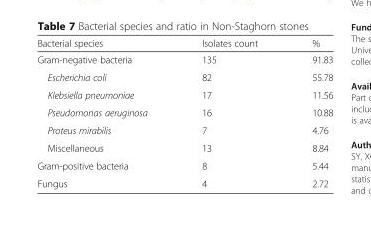table: (36, 36, 332, 188)
table column: (36, 36, 173, 188), (173, 36, 284, 188), (284, 36, 332, 188)
table column header: (36, 36, 332, 50)
table row: (36, 50, 332, 68), (36, 85, 332, 103), (36, 103, 332, 121), (36, 138, 332, 156), (36, 156, 332, 174), (36, 68, 332, 85), (36, 121, 332, 138), (36, 36, 332, 50), (36, 174, 332, 188)
